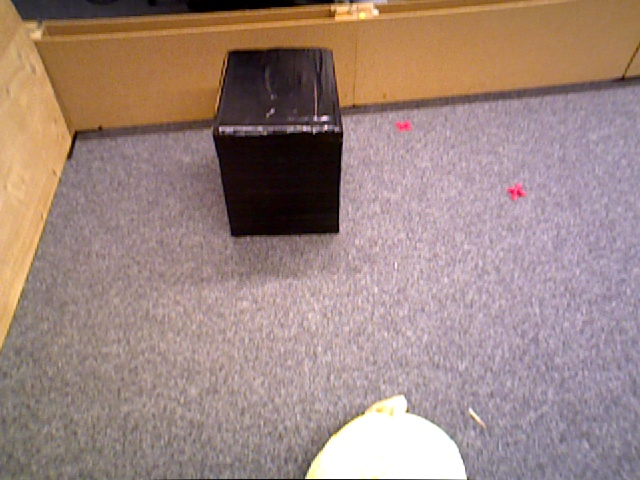grasp: (305, 407, 466, 480)
push: (213, 49, 344, 238)
